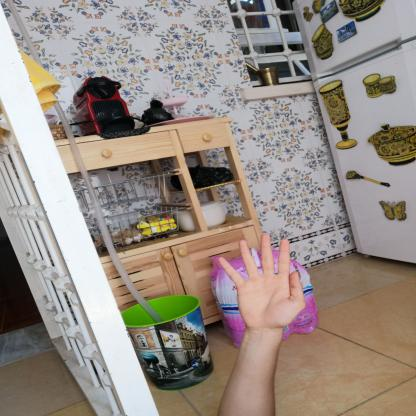SHEEN: (212, 229, 314, 333)
